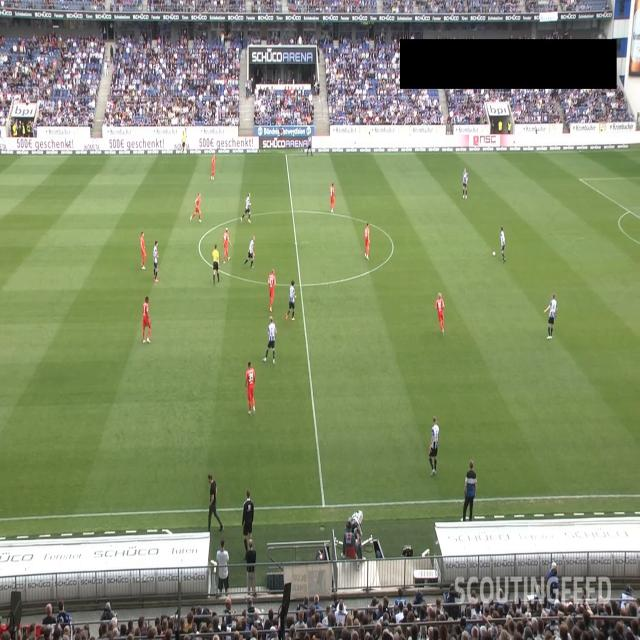ball: (492, 250, 496, 257)
